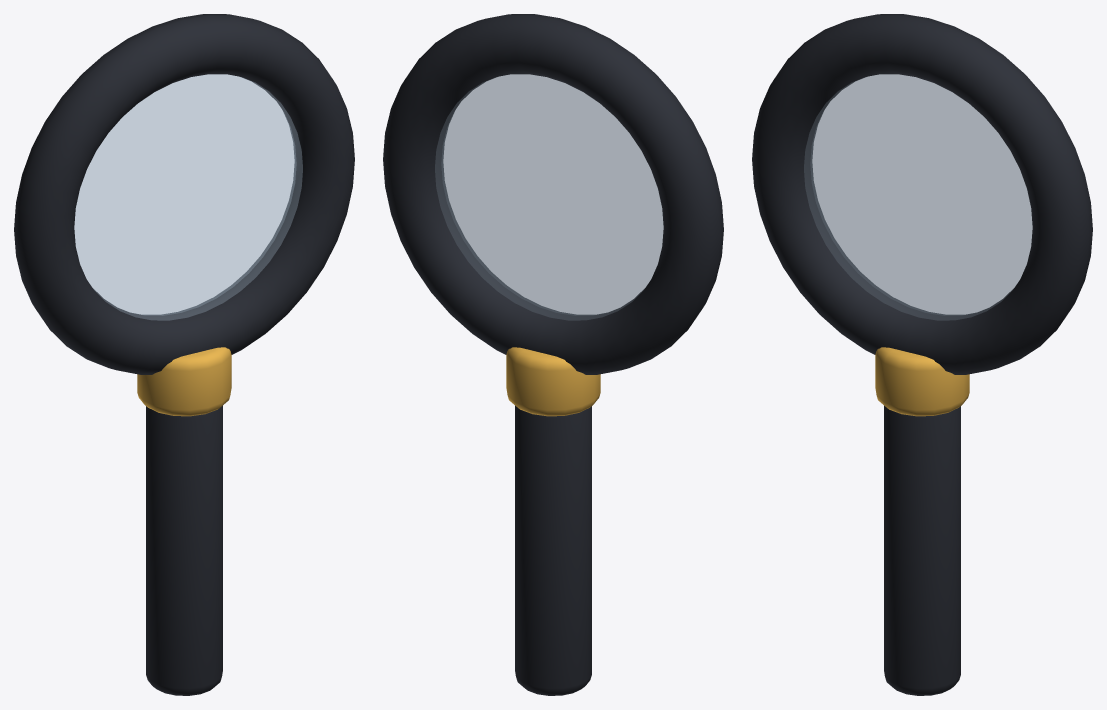
Rendered from lupa.glb.
The picture shows the model from 3 angles, left to right: view 1: azimuth 30°, elevation 25°; view 2: azimuth 150°, elevation 25°; view 3: azimuth 330°, elevation 25°; orthographic projection.
Parts seen in each view (by area): view 1: Torus, lupa_vidro, Cylinder, Cylinder.001; view 2: Torus, lupa_vidro, Cylinder, Cylinder.001; view 3: Torus, lupa_vidro, Cylinder, Cylinder.001.
Boxes of the visible parts, x1,y1,x2,y2 form: Torus: (14,14,354,374); lupa_vidro: (74,74,302,320); Cylinder: (146,405,222,695); Cylinder.001: (137,347,231,416); Torus: (383,14,723,374); lupa_vidro: (435,74,663,320); Cylinder: (515,405,591,695); Cylinder.001: (506,347,600,416); Torus: (752,14,1092,374); lupa_vidro: (804,74,1032,320); Cylinder: (884,405,960,695); Cylinder.001: (875,347,969,416).
Size of the model in its own units: 0.178 by 0.339 by 0.044.
